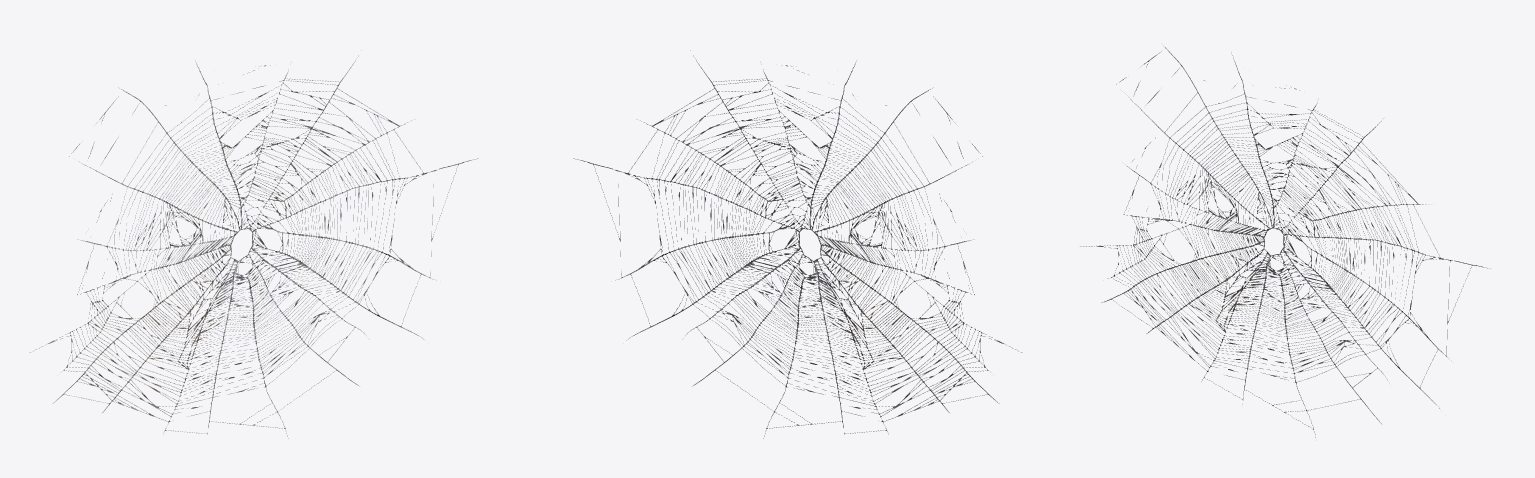
The model's file is cobweb-01.fbx.
3 renders of one model, left to right at view 1: azimuth 30°, elevation 25°; view 2: azimuth 150°, elevation 25°; view 3: azimuth 330°, elevation 25°, orthographic. The views are drawn at different scales.
Visible parts, largest first — view 1: Plane.005; view 2: Plane.005; view 3: Plane.005.
Boxes of the visible parts, x1=… form: Plane.005: x1=29, y1=50, x2=478, y2=438; Plane.005: x1=573, y1=50, x2=1022, y2=438; Plane.005: x1=1080, y1=47, x2=1490, y2=437.
Bounding box in the file's own units: 3.81 × 3.31 × 8.33e-07.
